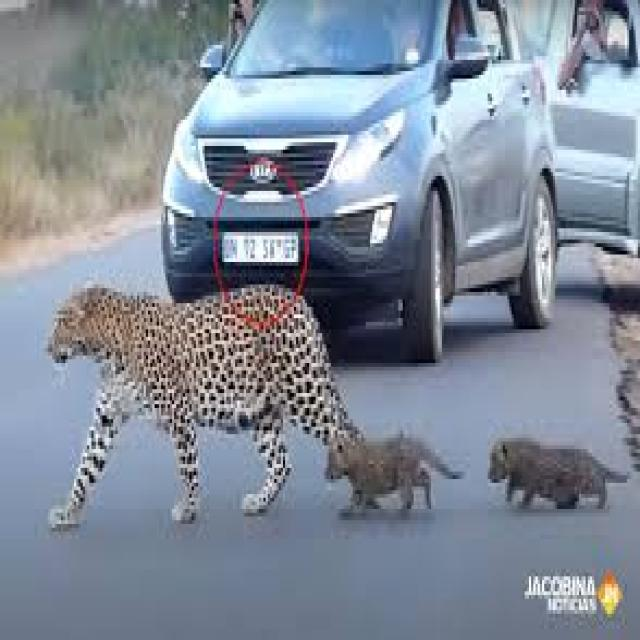Jaguar: (59, 292, 357, 513), (300, 404, 474, 532), (494, 412, 629, 539)
